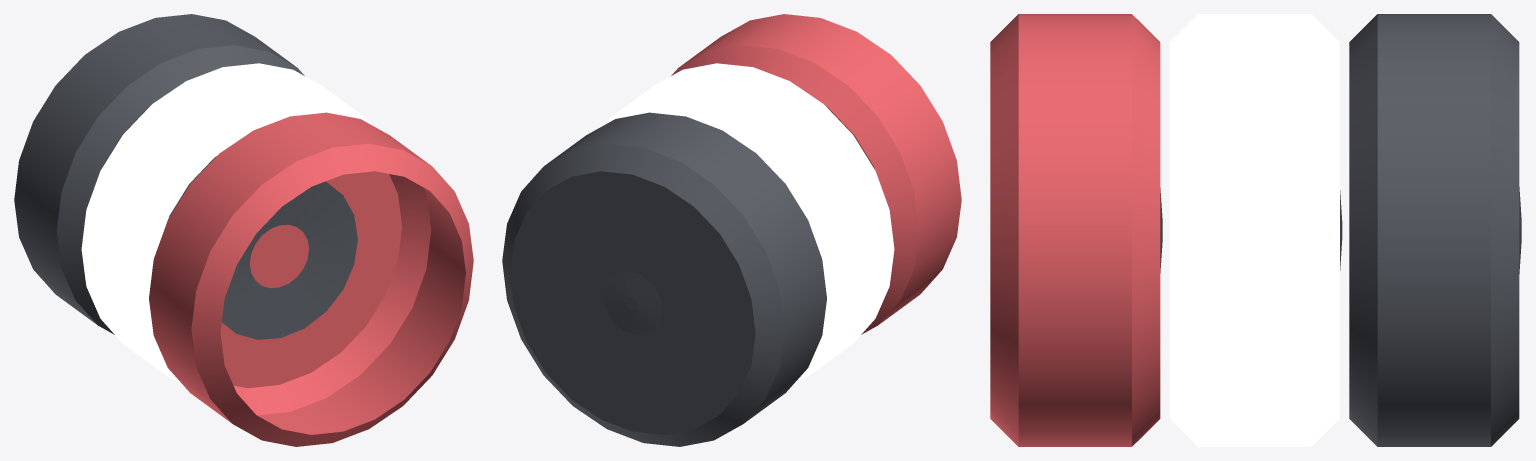
The model's file is tire_stack.glb.
3 renders of one model, left to right at view 1: azimuth 30°, elevation 25°; view 2: azimuth 150°, elevation 25°; view 3: azimuth 270°, elevation 25°, orthographic. The views are drawn at different scales.
Parts seen in each view (by area): view 1: Tire_Stack; view 2: Tire_Stack; view 3: Tire_Stack.
Part boxes in pixels (x1=…): Tire_Stack: x1=14, y1=14, x2=473, y2=446; Tire_Stack: x1=502, y1=14, x2=961, y2=446; Tire_Stack: x1=990, y1=14, x2=1521, y2=446.
Bounding box in the file's own units: 0.92 × 0.92 × 1.12.
